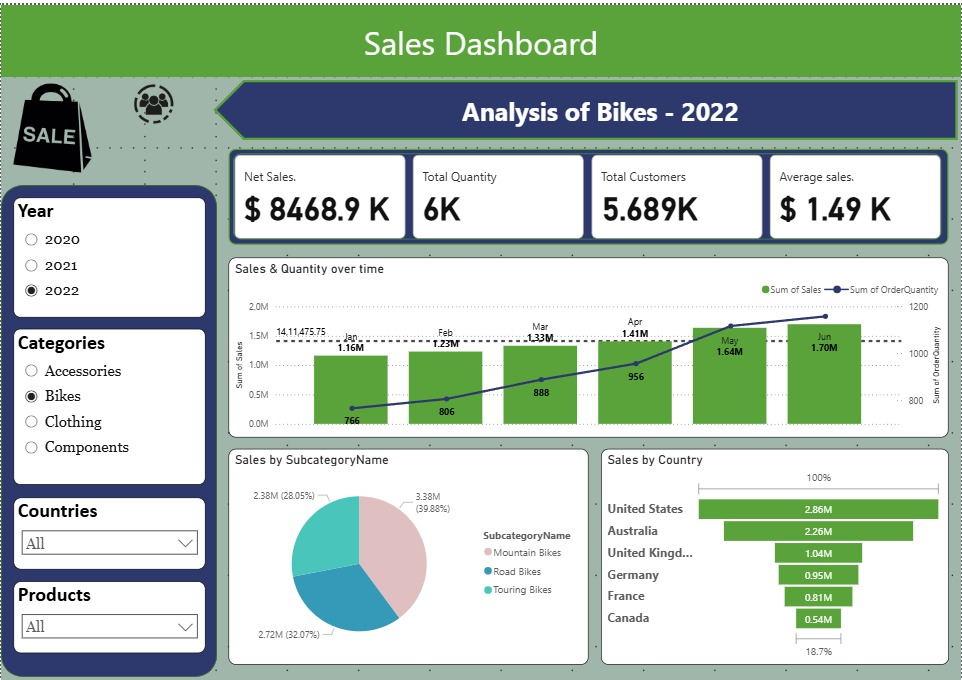

The page's visual inventory and layout, read from the dashboard file:
{"tool":"powerbi","page":{"name":"Products","canvas":[1280,900],"ordinal":1},"visuals":[{"type":"shape","box":[0,240,288,656],"z":0},{"type":"slicer","title":"Year","fields":{"Values":["Calendar.Year"]},"box":[16,256,256,160],"z":1000},{"type":"pieChart","title":"Sales by SubcategoryName","fields":{"Category":["Subcategories Lookup.SubcategoryName"],"Y":["Sum(Sales Data.Sales)"]},"box":[304,592,480,288],"z":2000},{"type":"slicer","title":"Categories","fields":{"Values":["Categories Lookup.CategoryName"]},"box":[16,432,256,208],"z":3000},{"type":"lineClusteredColumnComboChart","title":"Sales & Quantity over time","fields":{"Y":["Sum(Sales Data.Sales)"],"Y2":["Sum(Sales Data.OrderQuantity)"],"Category":["Calendar.Date.Variation.Date Hierarchy.Quarter","Calendar.Date.Variation.Date Hierarchy.Month"]},"box":[304,336,960,240],"z":4000},{"type":"slicer","title":"Countries","fields":{"Values":["Territory Lookup.Country"]},"box":[16,656,256,96],"z":5000},{"type":"funnel","title":"Sales by Country","fields":{"Y":["Sum(Sales Data.Sales)"],"Category":["Territory Lookup.Country"]},"box":[800,592,464,288],"z":6000},{"type":"cardVisual","fields":{"Data":["KPIs.Net Sales.","Sum(Sales Data.OrderQuantity)","CountNonNull(Sales Data.CustomerKey)","KPIs.average sales."]},"box":[304,192,960,128],"z":7000},{"type":"image","box":[-4,100.6,144,128],"z":8000},{"type":"image","box":[172,100.6,64,64],"z":9000},{"type":"shape","box":[284,100.6,992,80],"z":10000},{"type":"slicer","title":"Products","fields":{"Values":["Product Lookup.ProductName"]},"box":[16,768,256,96],"z":12000},{"type":"shape","box":[0,0,1280,96],"z":13000}]}

Visuals, with their boxes in screenshot pixels (x1, y1, x2, y2), scaled from the page's 1280x900 canvas onto the 962x680 screenshot:
shape: <region>0, 181, 216, 677</region>
"Year" slicer: <region>12, 193, 204, 314</region>
"Sales by SubcategoryName" pieChart: <region>228, 447, 589, 665</region>
"Categories" slicer: <region>12, 326, 204, 484</region>
"Sales & Quantity over time" lineClusteredColumnComboChart: <region>228, 254, 950, 435</region>
"Countries" slicer: <region>12, 496, 204, 568</region>
"Sales by Country" funnel: <region>601, 447, 950, 665</region>
cardVisual - KPIs.Net Sales. x Sum(Sales Data.OrderQuantity): <region>228, 145, 950, 242</region>
image: <region>0, 76, 105, 173</region>
image: <region>129, 76, 177, 124</region>
shape: <region>213, 76, 959, 136</region>
"Products" slicer: <region>12, 580, 204, 653</region>
shape: <region>0, 0, 961, 73</region>
